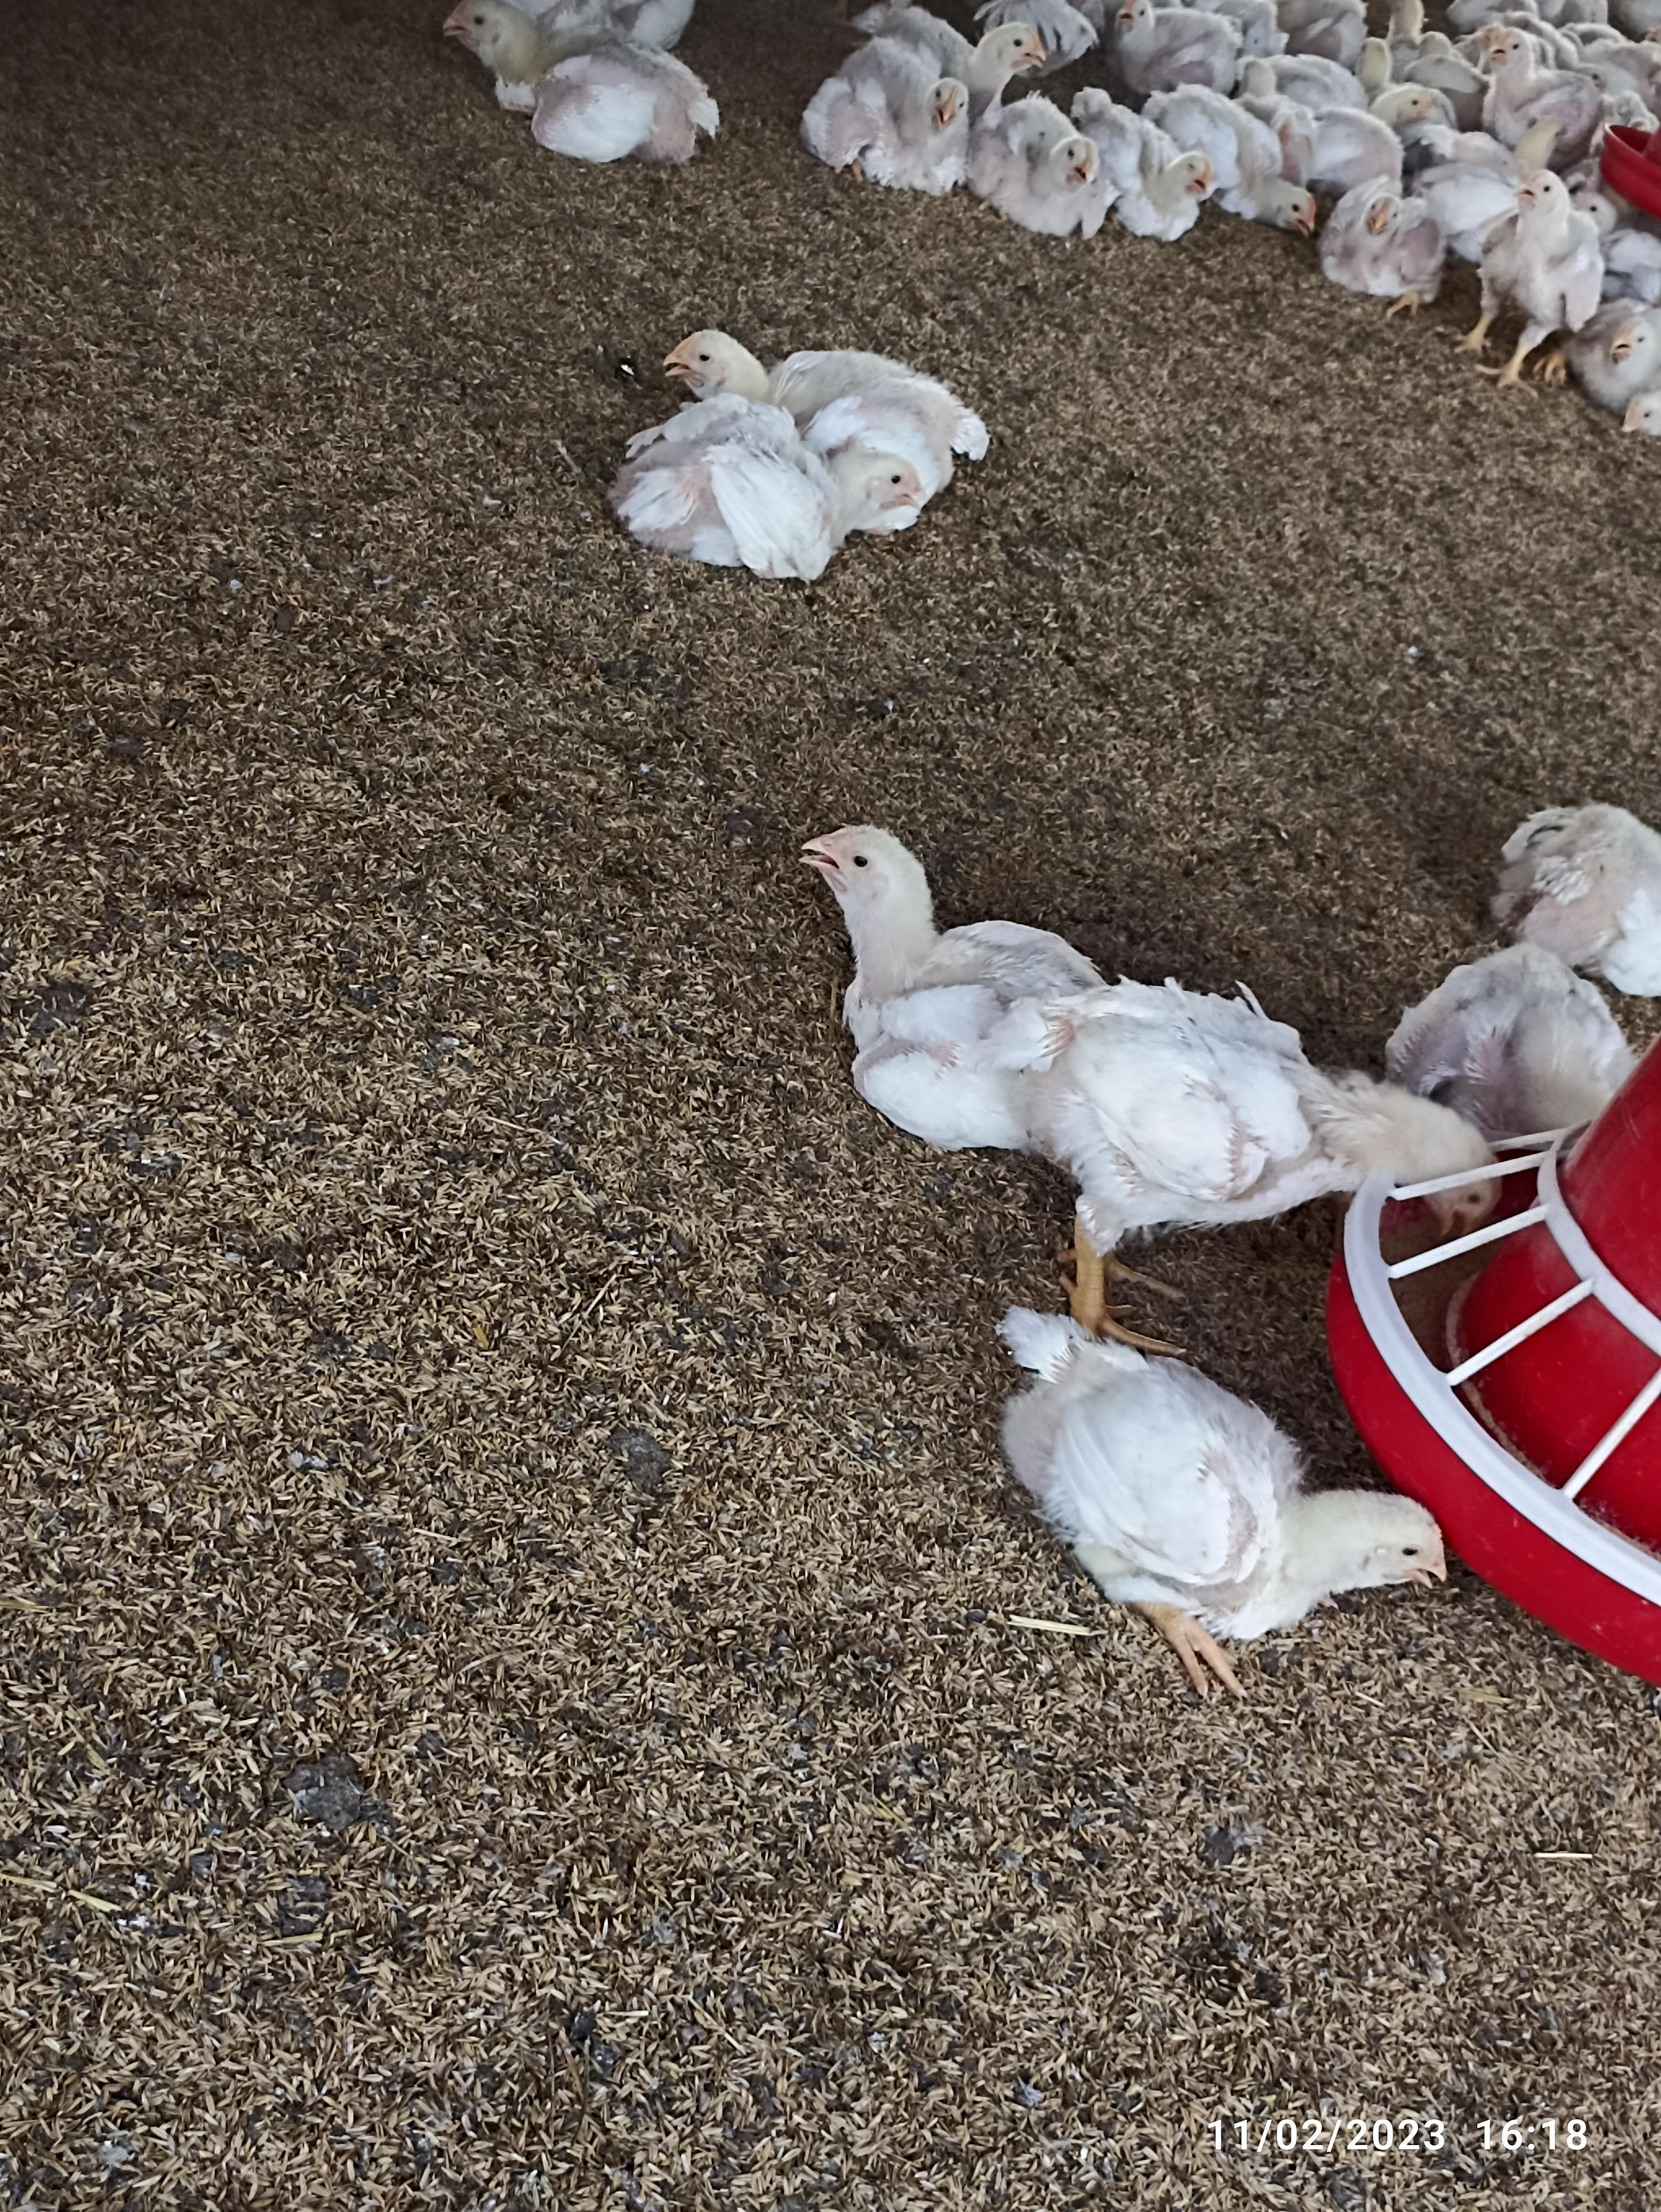Pollos: (1003, 1305, 1473, 1692), (1040, 954, 1497, 1272), (609, 317, 967, 574), (797, 816, 1047, 1143), (457, 0, 728, 166), (829, 40, 970, 176), (1483, 166, 1607, 300), (1324, 174, 1452, 304), (993, 115, 1101, 242), (1104, 131, 1209, 232)
